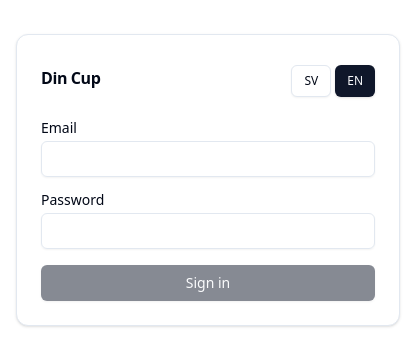
Test case: LoginPage › shows an invalid-credentials error when the server returns 401
The width and height of the screenshot is (417, 362).
Type "wrong@example.com" into the field labelled "Email" at (208, 159), box x1=41 y1=141 x2=375 y2=177
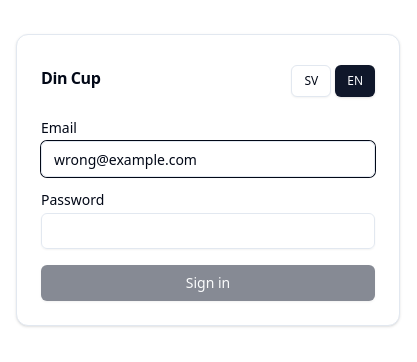
Type "badpass1" into the password field labelled "Password" at (208, 231), box x1=41 y1=213 x2=375 y2=249
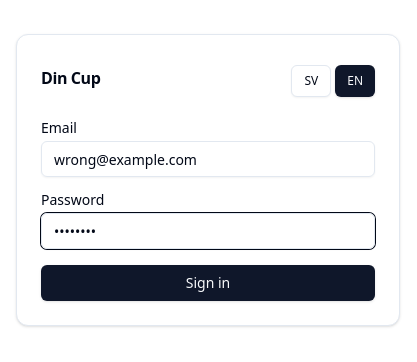
Click the button "Sign in" at (208, 283), box x1=41 y1=265 x2=375 y2=301
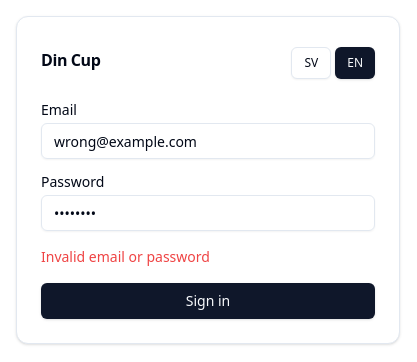
expect the message reads "Invalid email or password": met, box x1=41 y1=247 x2=210 y2=266
